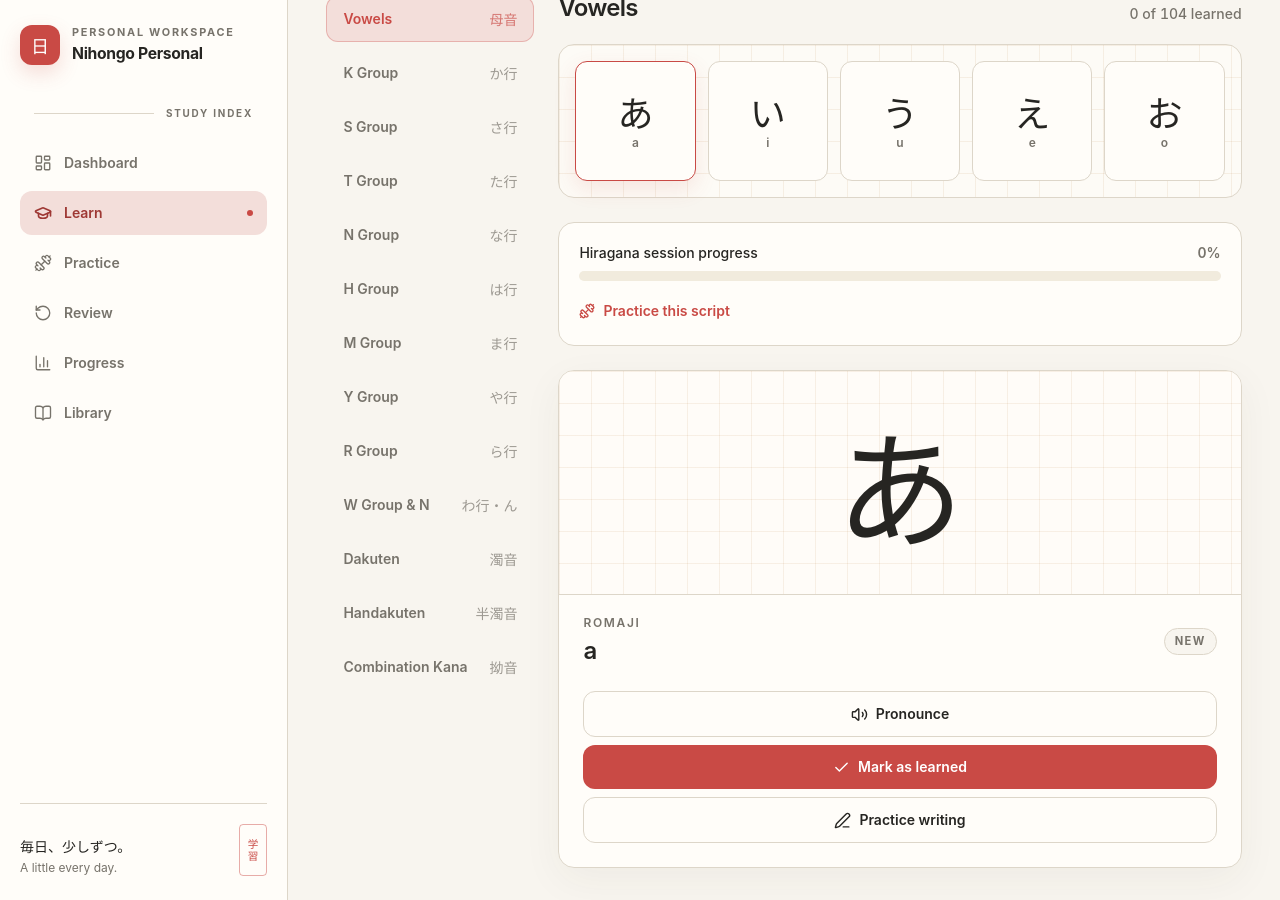
Test case: Kana learning › tracks learned characters only in current session
(page scrolled)
Check: the text "0 of 104 learned" is shown, box [1130,4,1242,24]
Click the button with aria-label "Mark あ as learned": (900,767) [583,745,1217,789]
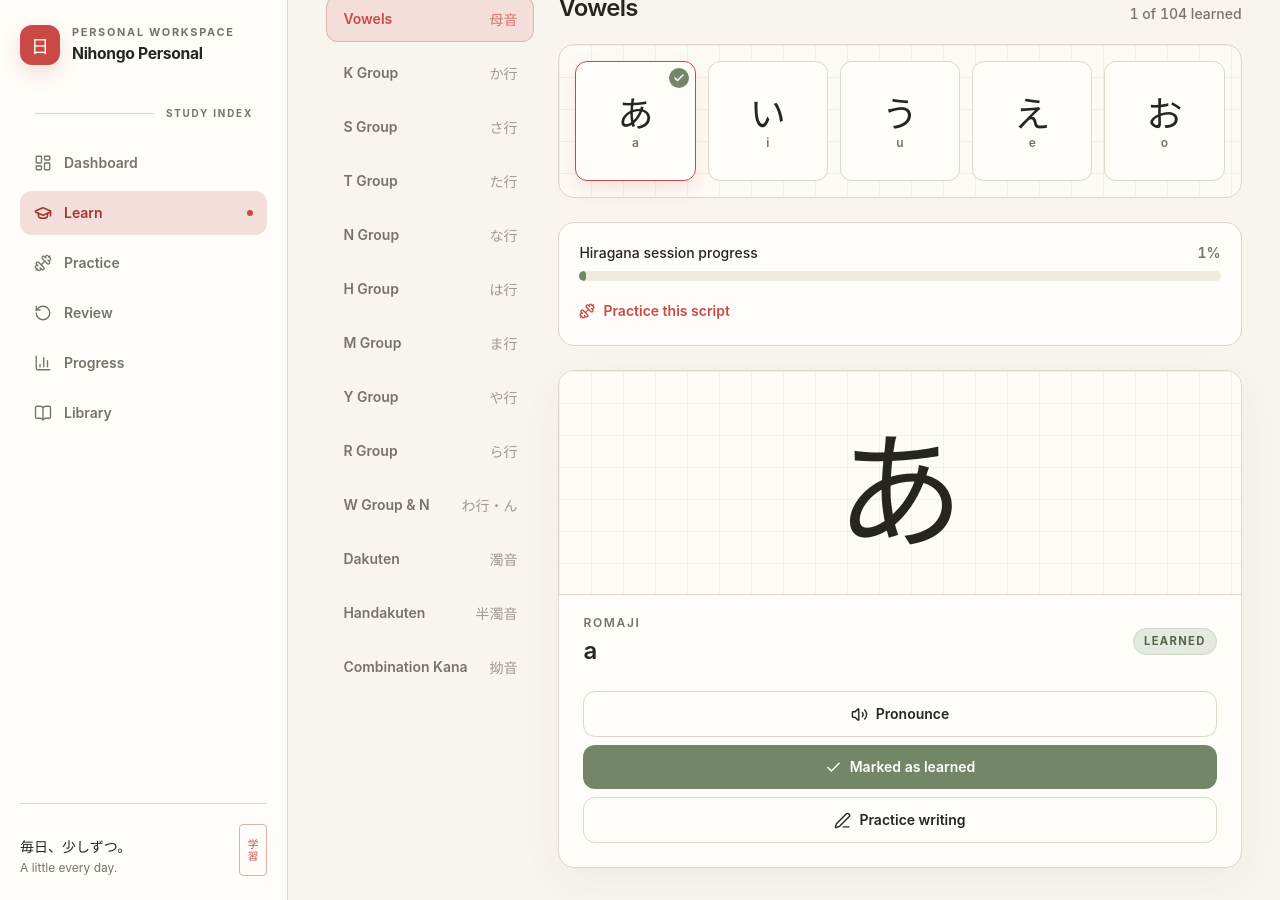
Check: the text "1 of 104 learned" is shown, box [1130,4,1242,24]
Check: the text "Learned" is shown, box [1133,628,1217,655]
